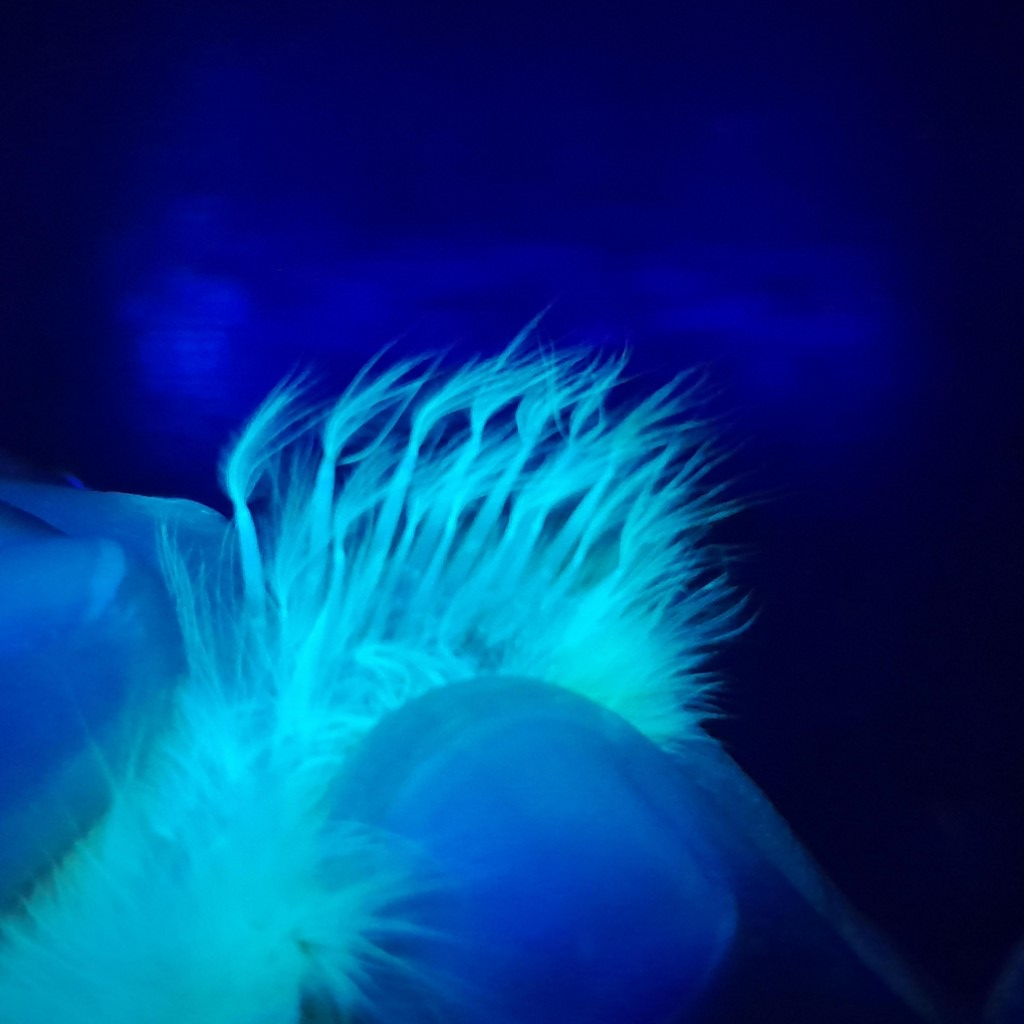female: (224, 393, 639, 763)
